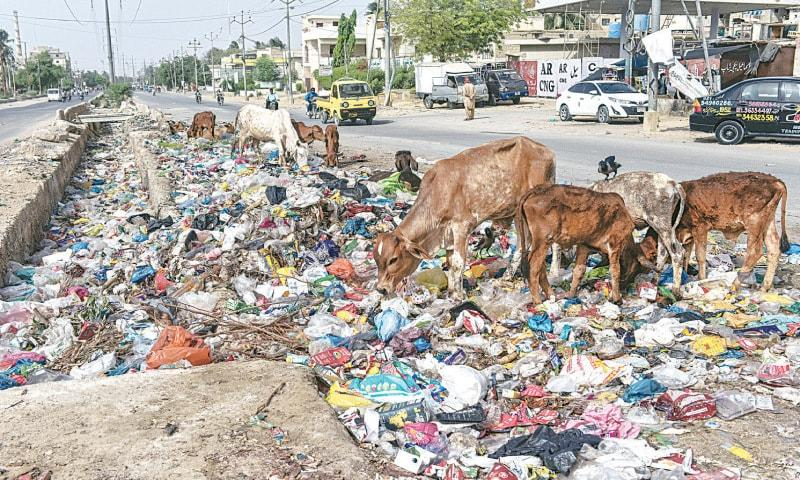garbage: (313, 287, 800, 480), (35, 107, 380, 358)
